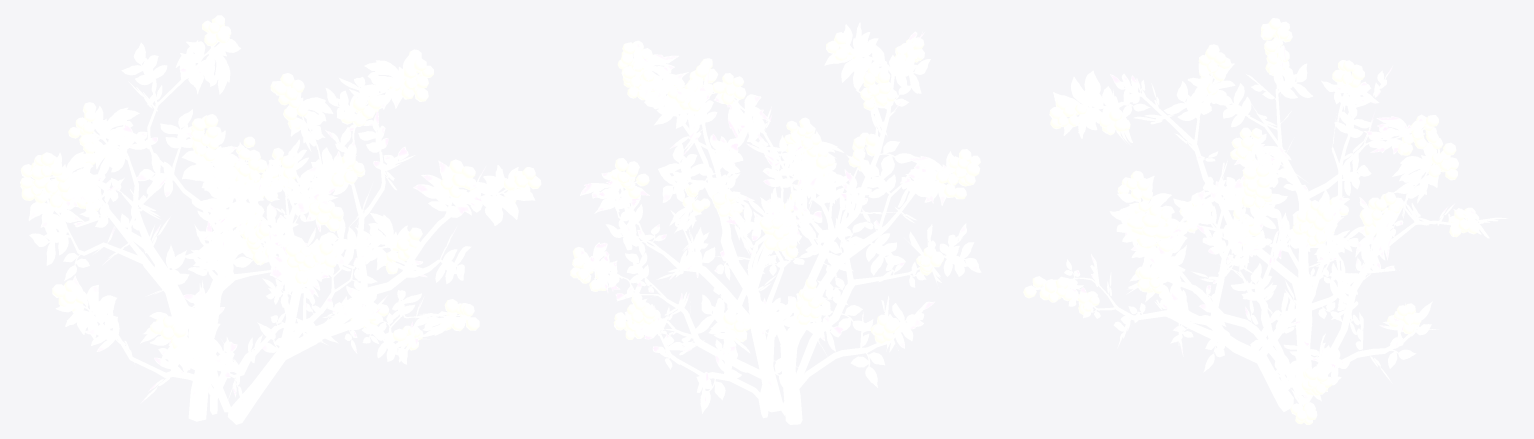
3 renders of one model, left to right at view 1: azimuth 30°, elevation 25°; view 2: azimuth 150°, elevation 25°; view 3: azimuth 270°, elevation 25°, orthographic. The views are drawn at different scales.
Visible parts, largest first — view 1: SM_Cadavaberry_Bush_LOD0; view 2: SM_Cadavaberry_Bush_LOD0; view 3: SM_Cadavaberry_Bush_LOD0.
Boxes of the visible parts, x1,y1,x2,y2 form: SM_Cadavaberry_Bush_LOD0: (20,15,541,424); SM_Cadavaberry_Bush_LOD0: (570,22,981,424); SM_Cadavaberry_Bush_LOD0: (1023,18,1507,424).
Size of the model in its own units: 1.6 by 1.34 by 1.69.
Materials: 1 (1 with a texture image).
